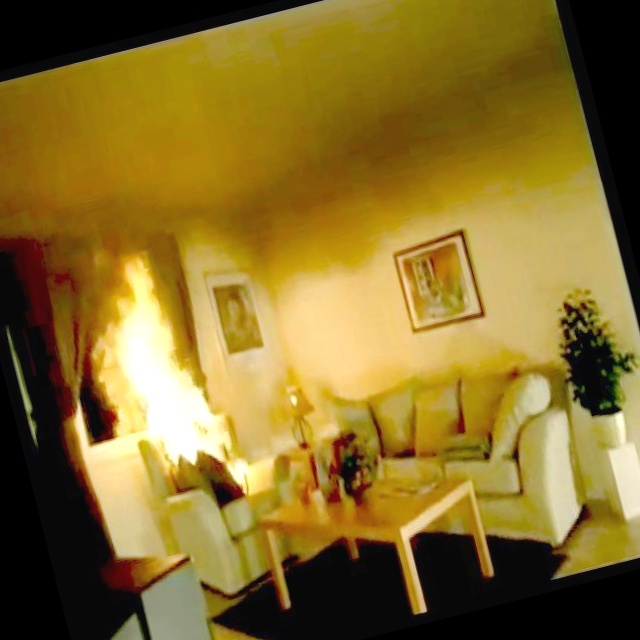fire: (72, 239, 249, 491)
